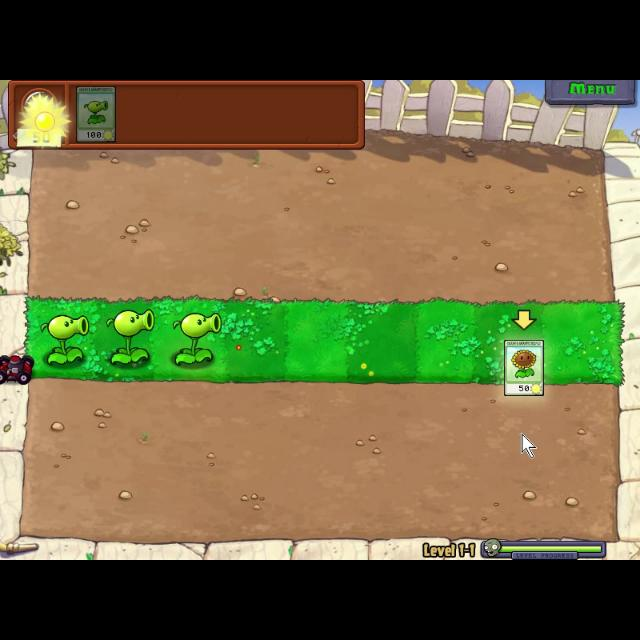Garden: (24, 294, 626, 390)
Menu Button: (544, 80, 638, 104)
Mower: (0, 351, 34, 389)
Peashooter: (72, 85, 120, 143)
Peashooter Seed: (102, 306, 160, 372), (168, 308, 226, 369), (34, 307, 90, 368)
Reward: (500, 337, 546, 399)
Seed Panel: (7, 80, 370, 152)
